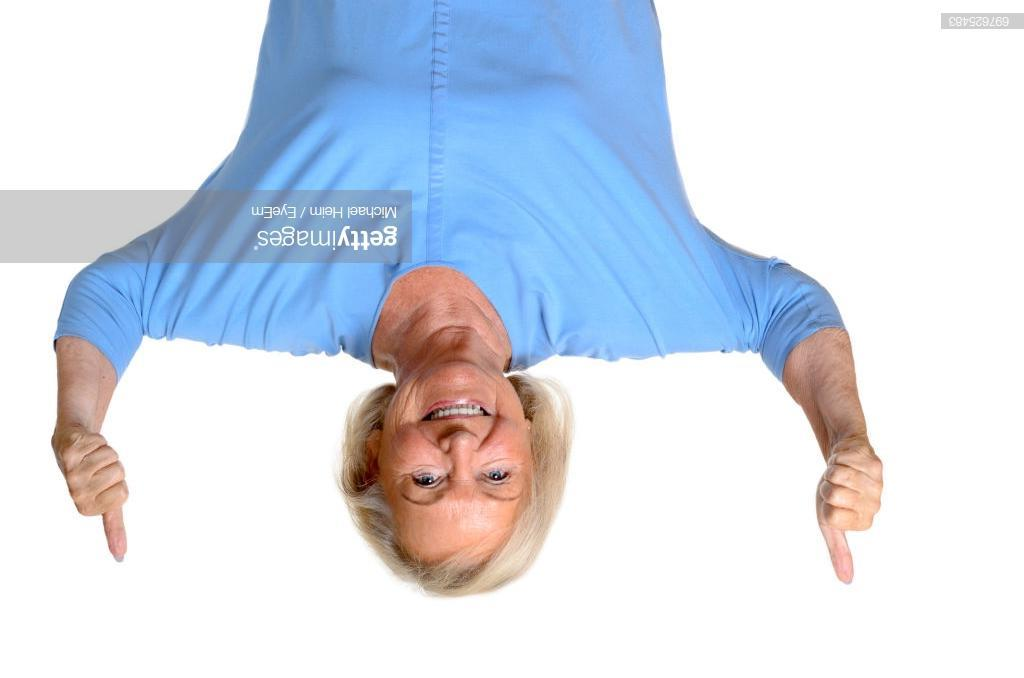thumbsdown: (819, 446, 884, 585), (61, 432, 129, 563)
